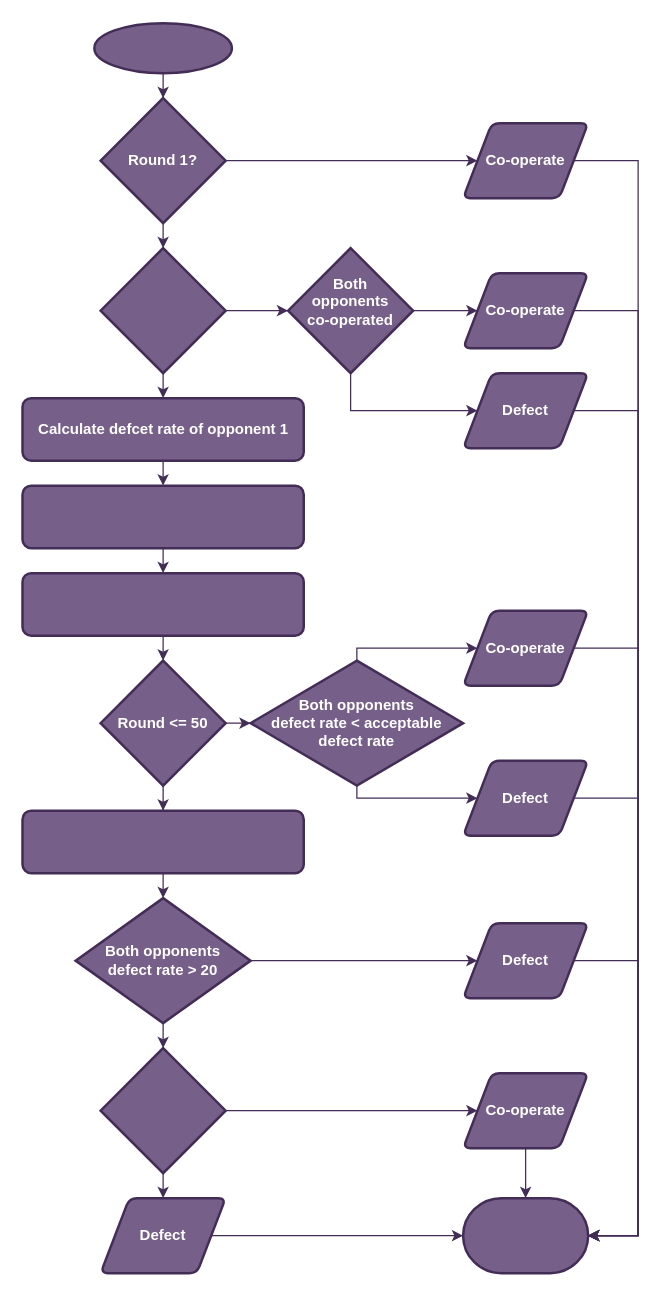
Image size: 670x1295. Some labels were removed from this diagram. The shapes that lost their labels are listed below. From the top down, each one's centre as x and y in pixels, then its label:
At (162,47): "Round Begins".
At (162,310): "Round <= 15".
At (162,516): "Calculate defcet rate of opponent 2".
At (162,603): "Calculate acceptable defect rate".
At (162,841): "Generate move probability".
At (162,1110): "move probability > 0.02".
At (525,1235): "Return".
